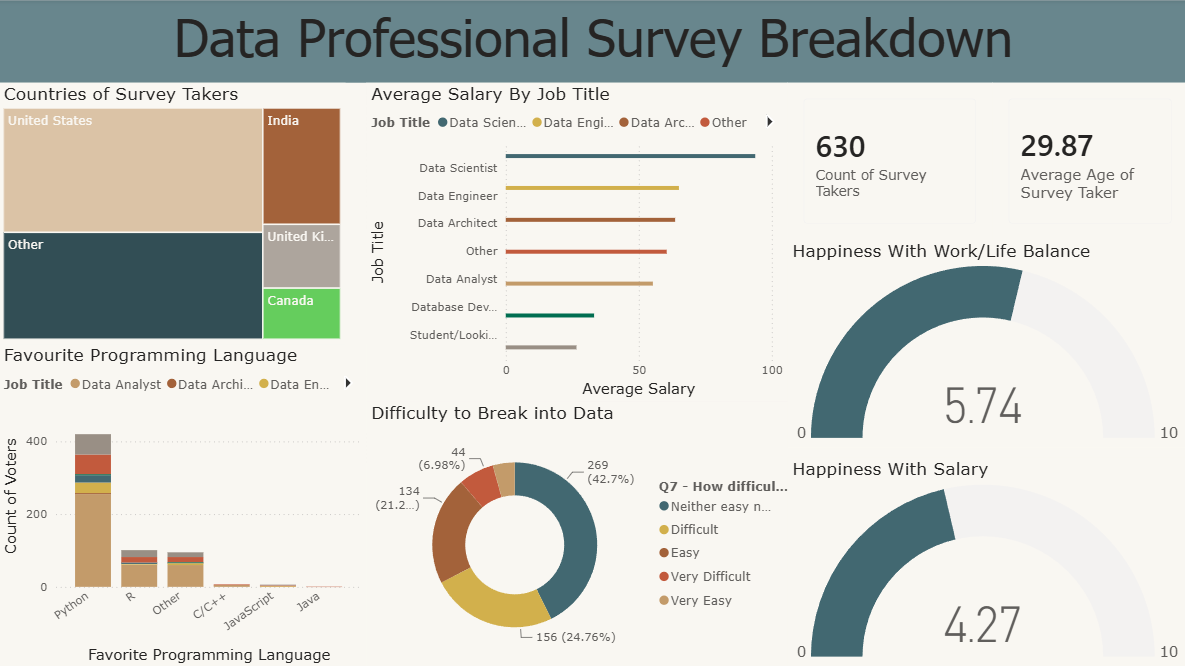

The dashboard page shown, as its layout file describes it:
{"tool":"powerbi","page":{"name":"Data Professional Survey Dashboard","canvas":[1280,720],"ordinal":0},"visuals":[{"type":"textbox","box":[0,1.3,1280.3,88.9],"z":0},{"type":"cardVisual","fields":{"Data":["Count(Data Professional Survey.Unique ID)"]},"box":[849.5,90.2,220.8,169.6],"z":1000},{"type":"cardVisual","fields":{"Data":["Avg(Data Professional Survey.Q10 - Current Age)"]},"box":[1070.3,90.2,210,169.6],"z":2000},{"type":"clusteredBarChart","title":"Average Salary By Job Title","fields":{"Category":["Data Professional Survey.Q1 - Which Title Best Fits your Current Role?.1"],"Y":["Avg(Data Professional Survey.Average Salary)"],"Series":["Data Professional Survey.Q1 - Which Title Best Fits your Current Role?.1"]},"box":[395.8,90.2,453.7,343.3],"z":3000},{"type":"columnChart","title":"Favourite Programming Language","fields":{"Category":["Data Professional Survey.Q5 - Favorite Programming Language.1"],"Y":["CountNonNull(Data Professional Survey.Unique ID)"],"Series":["Data Professional Survey.Q1 - Which Title Best Fits your Current Role?.1"]},"box":[0,371.6,395.8,348.7],"z":4000},{"type":"treemap","title":"Countries of Survey Takers","fields":{"Group":["Data Professional Survey.Q11 - Which Country do you live in?.1"],"Values":["CountNonNull(Data Professional Survey.Q11 - Which Country do you live in?.1)"]},"box":[0,90.2,372.9,281.4],"z":5000},{"type":"gauge","title":"Happiness With Salary","fields":{"Y":["Avg(Data Professional Survey.Q6 - How Happy are you in your Current Position with the following? (Salary))"],"MinValue":["Min(Data Professional Survey.Q6 - How Happy are you in your Current Position with the following? (Salary))1"],"MaxValue":["Max(Data Professional Survey.Q6 - How Happy are you in your Current Position with the following? (Salary))2"]},"box":[849.5,494.1,430.8,226.2],"z":6000},{"type":"gauge","title":"Happiness With Work/Life Balance","fields":{"Y":["Avg(Data Professional Survey.Q6 - How Happy are you in your Current Position with the following? (Work/Life Balance))"],"MinValue":["Min(Data Professional Survey.Q6 - How Happy are you in your Current Position with the following? (Work/Life Balance))1"],"MaxValue":["Max(Data Professional Survey.Q6 - How Happy are you in your Current Position with the following? (Work/Life Balance))2"]},"box":[849.5,259.8,430.8,223.5],"z":7000},{"type":"donutChart","title":"Difficulty to Break into Data","fields":{"Category":["Data Professional Survey.Q7 - How difficult was it for you to break into Data?"],"Y":["CountNonNull(Data Professional Survey.Q7 - How difficult was it for you to break into Data?)"]},"box":[395.8,433.5,453.7,286.7],"z":8000}]}

Visuals, with their boxes in screenshot pixels (x1, y1, x2, y2), scaled from the page's 1280x720 canvas onto the 1185x666 screenshot:
textbox: {"x1": 0, "y1": 1, "x2": 1184, "y2": 83}
cardVisual - Count(Data Professional Survey.Unique ID): {"x1": 786, "y1": 83, "x2": 991, "y2": 240}
cardVisual - Avg(Data Professional Survey.Q10 - Current Age): {"x1": 991, "y1": 83, "x2": 1184, "y2": 240}
"Average Salary By Job Title" clusteredBarChart: {"x1": 366, "y1": 83, "x2": 786, "y2": 401}
"Favourite Programming Language" columnChart: {"x1": 0, "y1": 344, "x2": 366, "y2": 665}
"Countries of Survey Takers" treemap: {"x1": 0, "y1": 83, "x2": 345, "y2": 344}
"Happiness With Salary" gauge: {"x1": 786, "y1": 457, "x2": 1184, "y2": 665}
"Happiness With Work/Life Balance" gauge: {"x1": 786, "y1": 240, "x2": 1184, "y2": 447}
"Difficulty to Break into Data" donutChart: {"x1": 366, "y1": 401, "x2": 786, "y2": 665}
